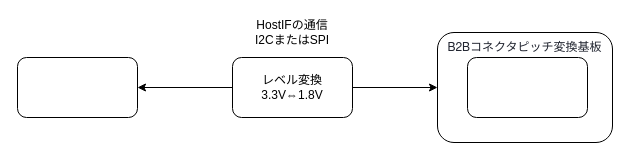
Image size: 630x160. Some labels were removed from this diagram. The centre of each missing label's shape, as x and y in pixels:
HostIF提供側 Spresense（Spresense SDK）: (527,87)
ホスト FPGA: (77,87)
